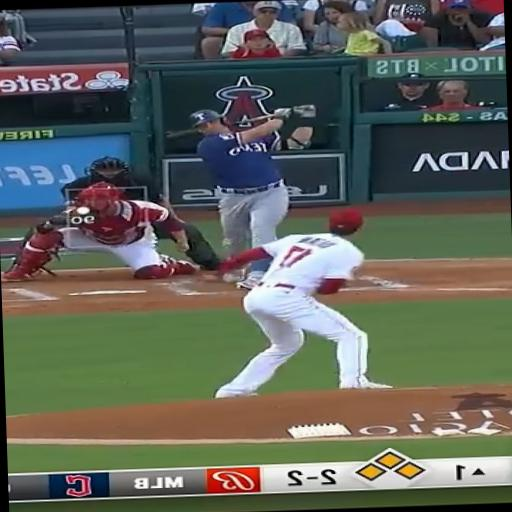bat: (166, 128, 196, 139)
